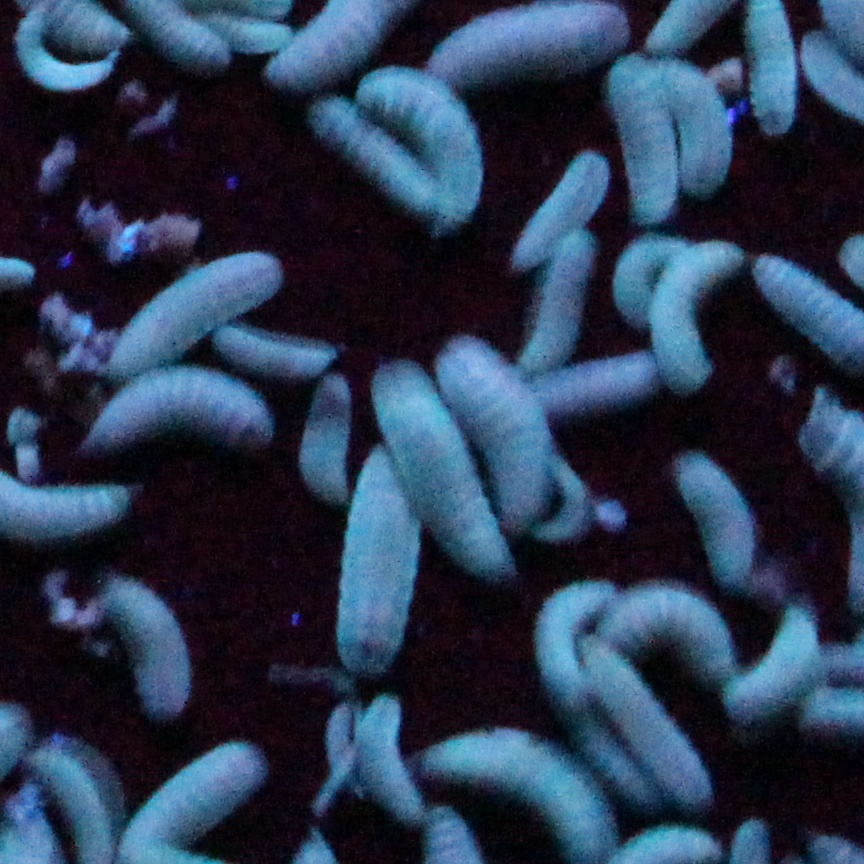larve: (425, 335, 553, 546), (100, 246, 289, 384), (339, 48, 490, 217), (67, 358, 276, 458), (335, 437, 420, 674), (638, 220, 749, 400), (307, 89, 446, 221), (646, 44, 746, 215), (98, 580, 205, 723), (594, 53, 697, 199), (664, 448, 766, 587), (510, 141, 610, 276), (723, 599, 821, 726), (528, 562, 605, 715), (351, 697, 430, 828), (290, 369, 361, 505)
